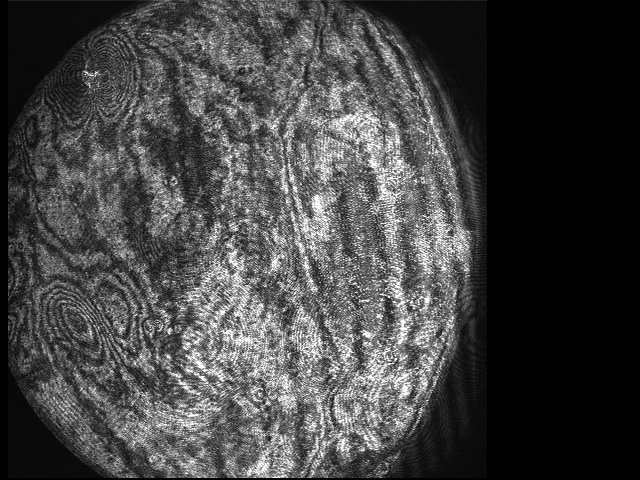plume: (47, 274, 143, 359), (51, 38, 136, 118)
